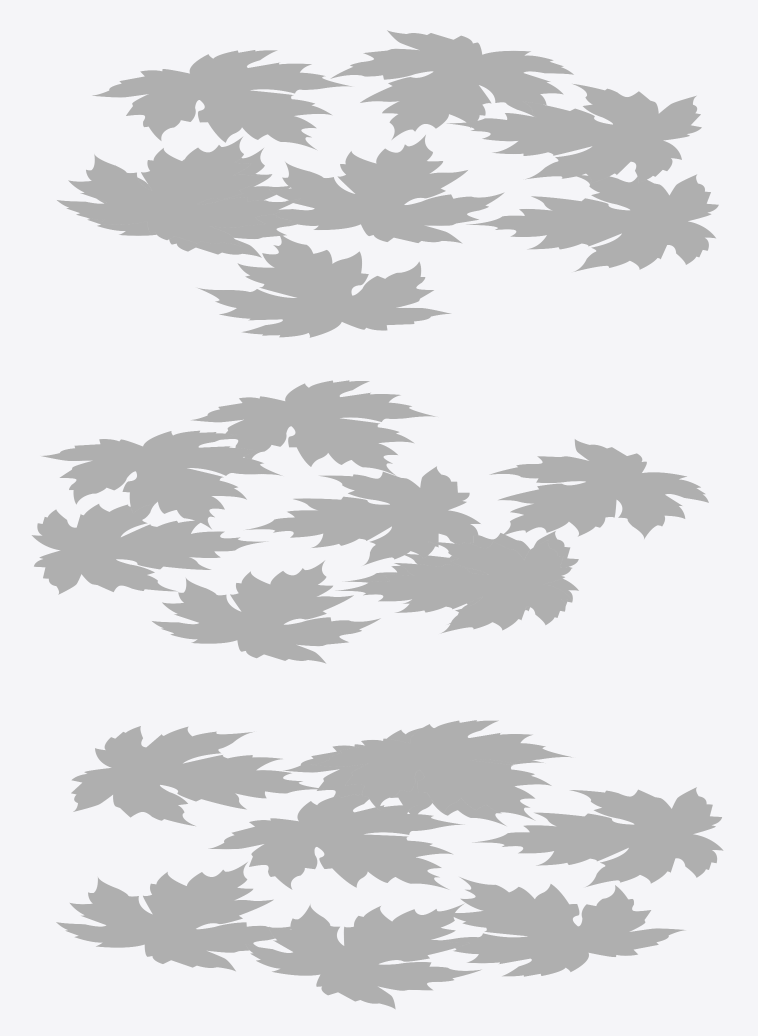
File: MultipleLeaf.gltf
3 renders of one model, top to bottom at view 1: azimuth 30°, elevation 25°; view 2: azimuth 150°, elevation 25°; view 3: azimuth 270°, elevation 25°, orthographic. The views are drawn at different scales.
Parts seen in each view (by area): view 1: LeafErable.001; view 2: LeafErable.001; view 3: LeafErable.001.
Part boxes in pixels (box(x1,y1,x2,y2)): LeafErable.001: box(57, 30, 718, 337); LeafErable.001: box(31, 380, 708, 663); LeafErable.001: box(56, 720, 723, 1009).
Bounding box in the file's own units: 0.4143 × 0.00149 × 0.4057.
Materials: 1 (1 with a texture image).
